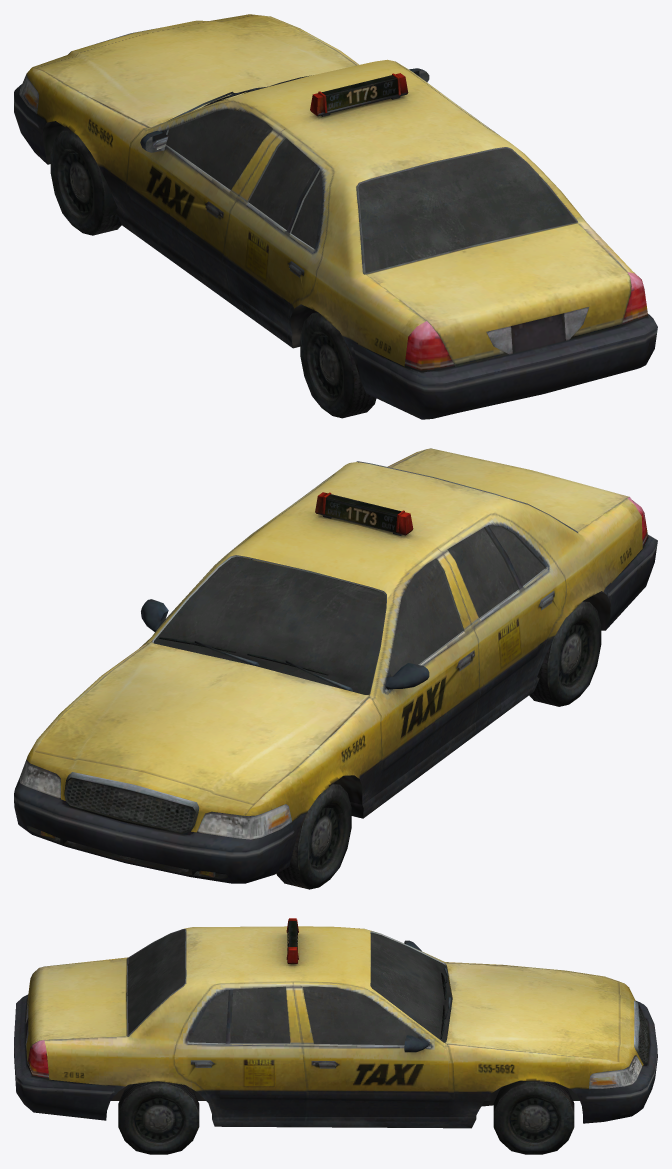
Rendered from taxi_cab.FBX.
The picture shows the model from 3 angles, top to bottom: view 1: azimuth 30°, elevation 25°; view 2: azimuth 150°, elevation 25°; view 3: azimuth 270°, elevation 25°; orthographic projection. The views are drawn at different scales.
Visible parts, largest first — view 1: taxi_cab; view 2: taxi_cab; view 3: taxi_cab.
Part boxes in pixels (x1=…): taxi_cab: x1=14, y1=14, x2=657, y2=419; taxi_cab: x1=14, y1=448, x2=657, y2=889; taxi_cab: x1=14, y1=918, x2=657, y2=1154.
Bounding box in the file's own units: 87.21 × 68.74 × 228.
2 materials, 2 textured.
